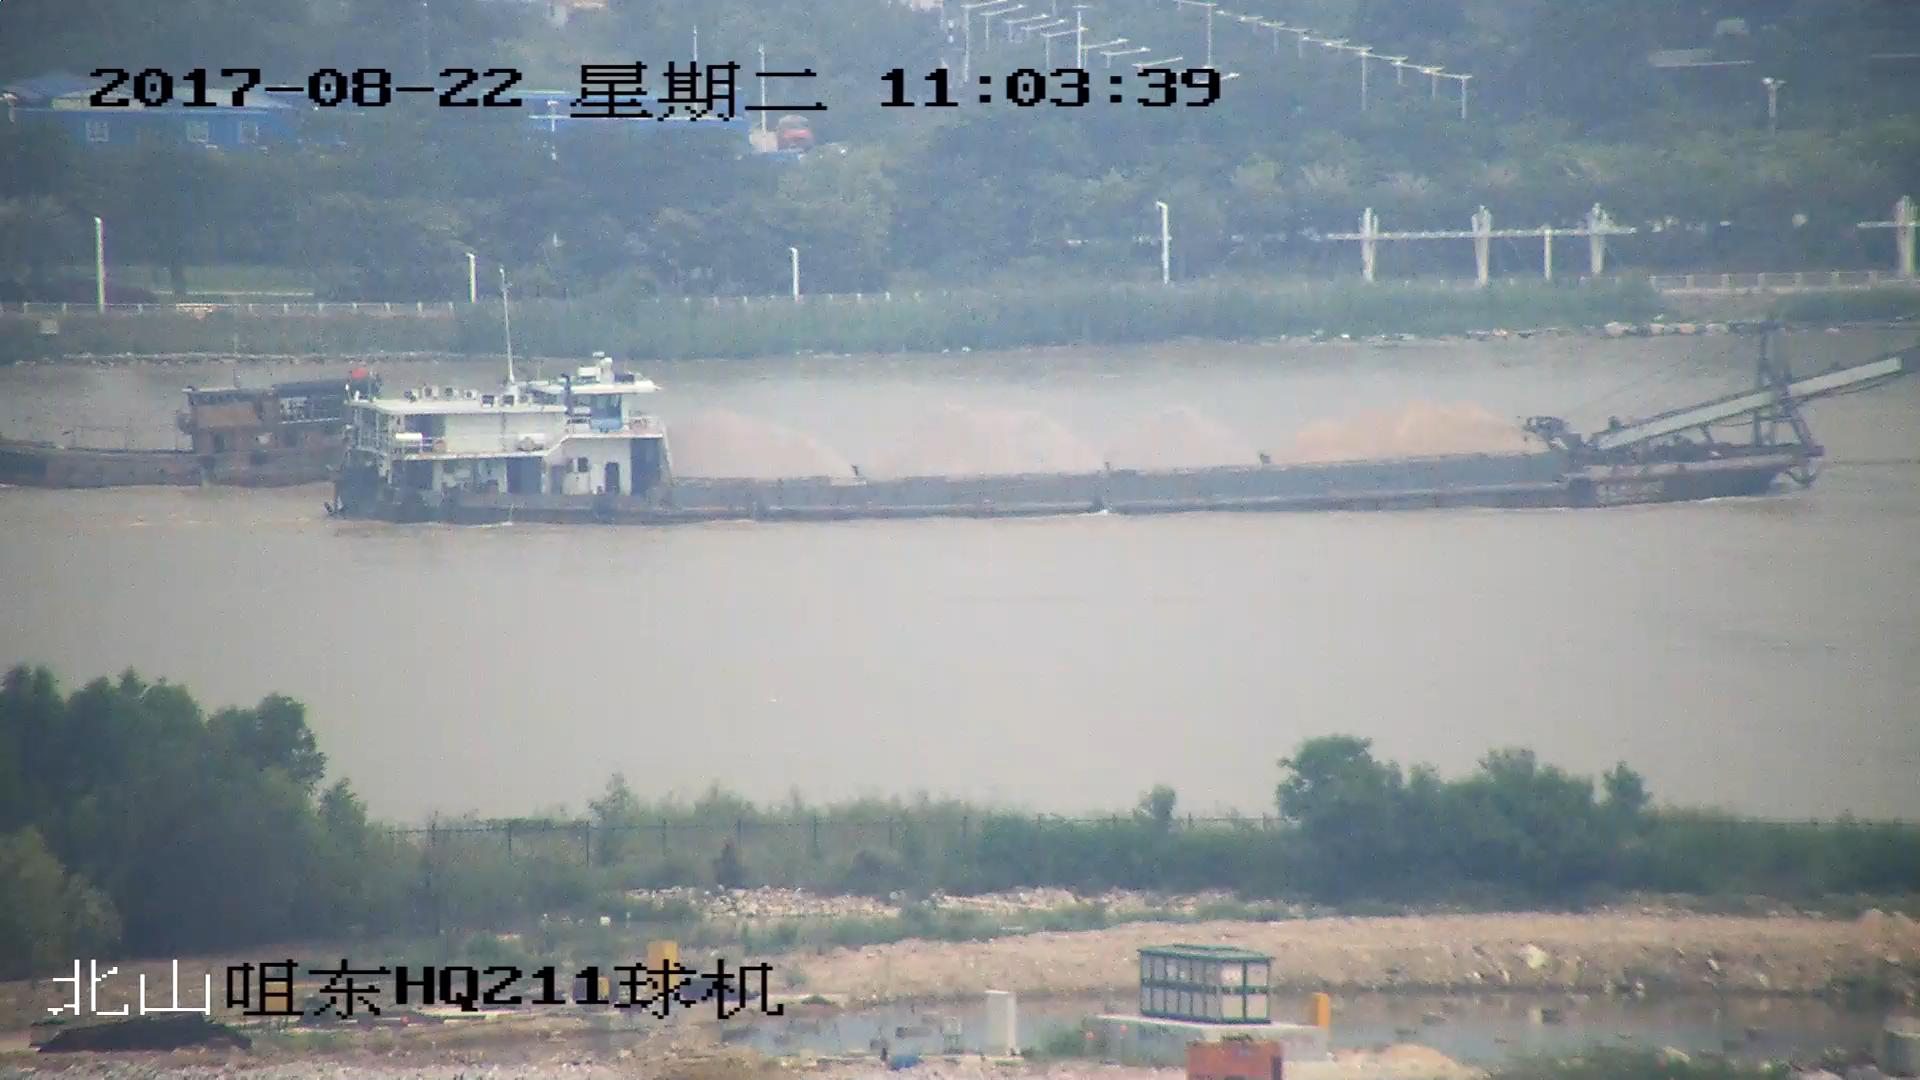fishing boat: (1, 377, 370, 480)
ore carrier: (335, 327, 1920, 517)
